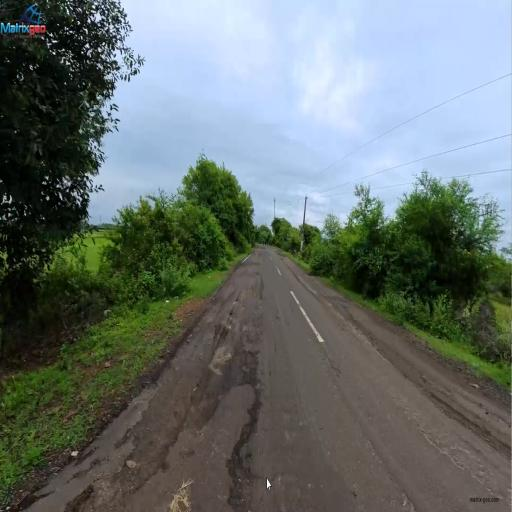ravelling: (220, 311, 279, 457)
